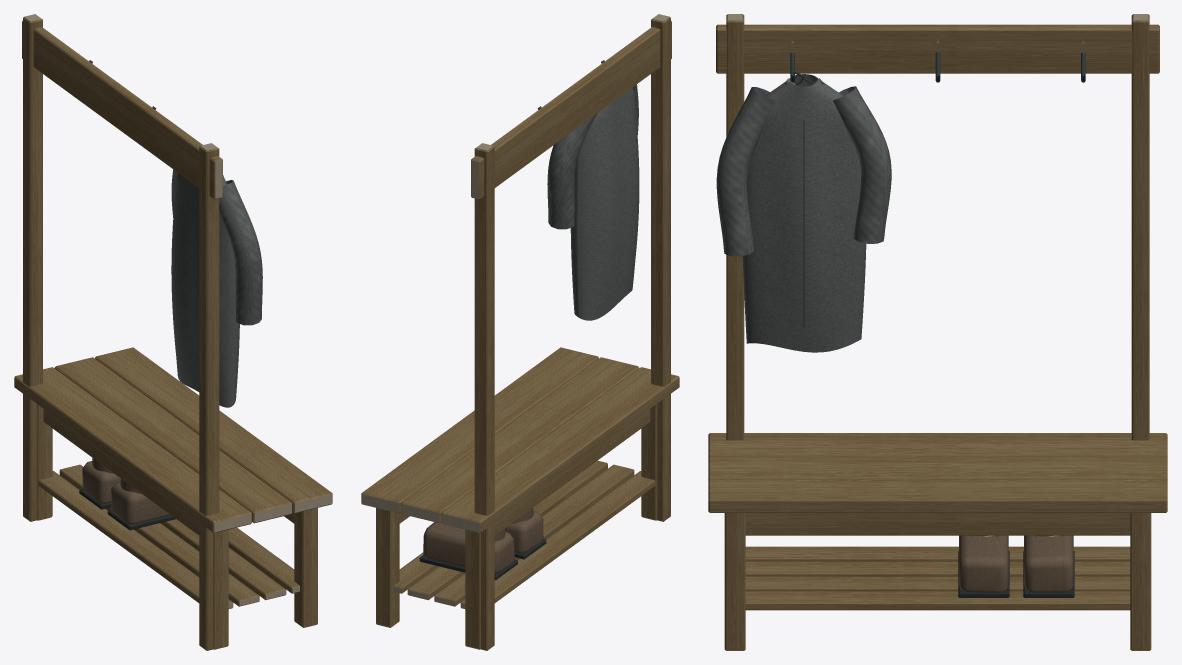
The picture shows the model from 3 angles, left to right: view 1: azimuth 30°, elevation 25°; view 2: azimuth 150°, elevation 25°; view 3: azimuth 270°, elevation 25°; orthographic projection. The views are drawn at different scales.
Visible parts, largest first — view 1: Mesh_warm, Mesh_throw, Mesh_leather, Mesh_endgrain, Mesh_iron; view 2: Mesh_warm, Mesh_throw, Mesh_leather, Mesh_endgrain, Mesh_iron; view 3: Mesh_warm, Mesh_throw, Mesh_leather, Mesh_iron.
Boxes of the visible parts, x1,y1,x2,y2 form: Mesh_warm: (14, 17, 332, 650); Mesh_throw: (171, 169, 262, 407); Mesh_leather: (82, 458, 170, 523); Mesh_endgrain: (24, 14, 332, 649); Mesh_iron: (79, 60, 175, 530); Mesh_warm: (361, 17, 679, 650); Mesh_throw: (547, 84, 639, 320); Mesh_leather: (423, 508, 543, 573); Mesh_endgrain: (361, 14, 669, 649); Mesh_iron: (419, 60, 604, 580); Mesh_warm: (708, 14, 1167, 650); Mesh_throw: (716, 74, 891, 352); Mesh_leather: (959, 535, 1073, 592); Mesh_iron: (790, 52, 1085, 597).
Size of the model in its own units: 0.417 by 1.66 by 1.2.
6 materials, 5 textured.
